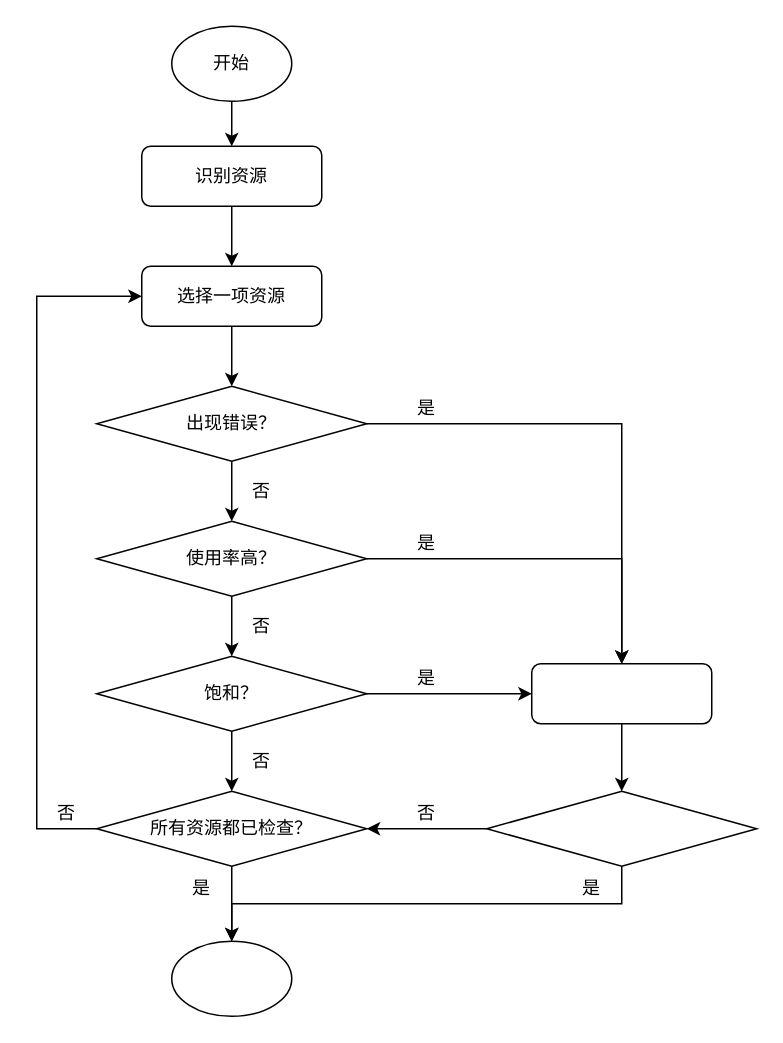
Some shapes in this 783 by 1043 pixel diagram are drawn without their labels. Here are the shapes that lost their labels. From the top down, the centre of each, then its label:
(621,693): 调查发现
(621,828): 问题解决？
(231,978): 结束
